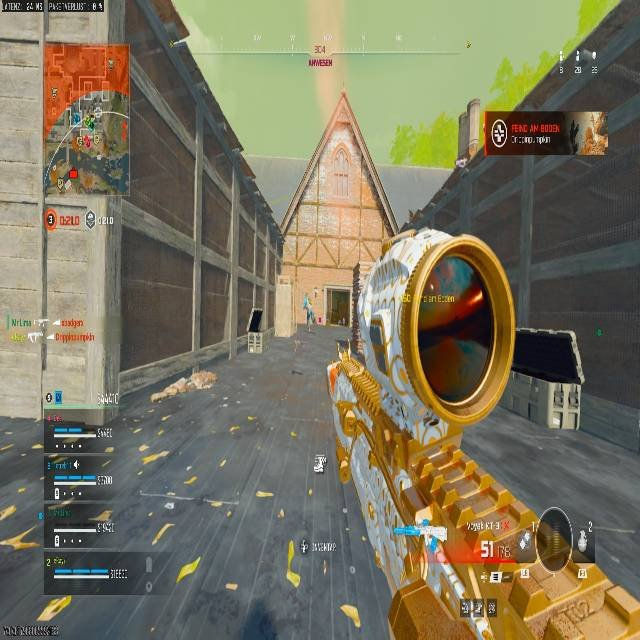head: (535, 507, 573, 569)
player: (501, 506, 639, 639), (302, 297, 315, 332)
